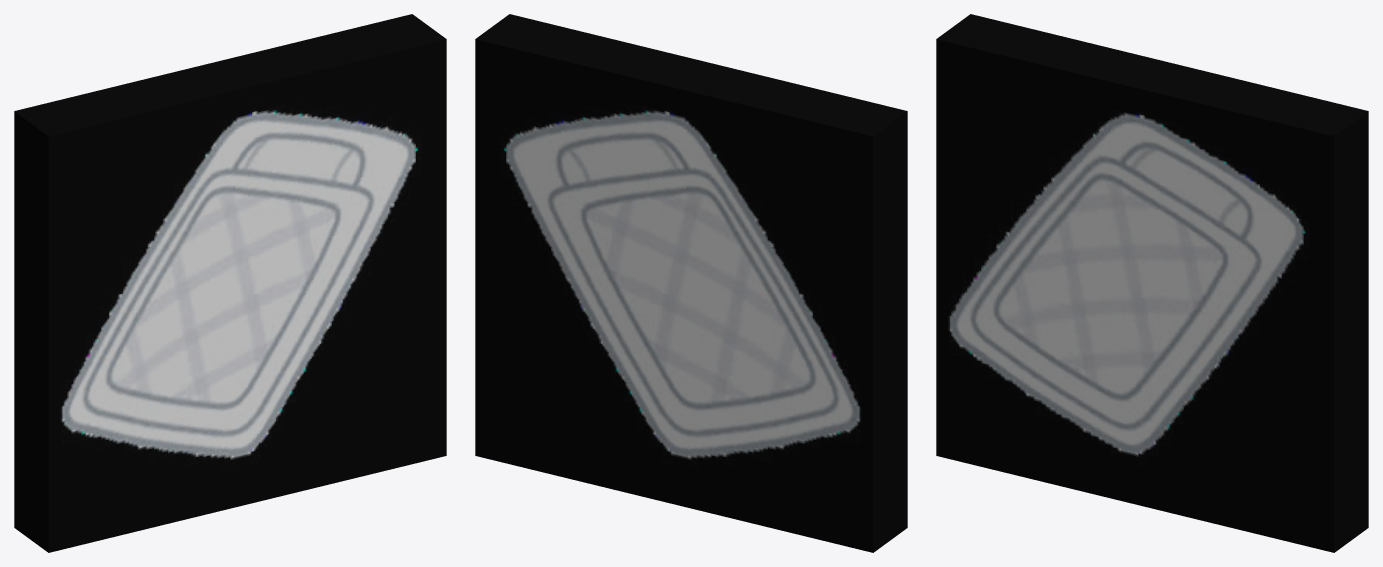
The model's file is bed.fbx.
The picture shows the model from 3 angles, left to right: view 1: azimuth 30°, elevation 25°; view 2: azimuth 150°, elevation 25°; view 3: azimuth 330°, elevation 25°; orthographic projection.
Visible parts, largest first — view 1: pPlane1; view 2: pPlane1; view 3: pPlane1.
Part boxes in pixels (box(x1,y1,x2,y2)): pPlane1: box(14, 14, 446, 552); pPlane1: box(475, 14, 907, 552); pPlane1: box(936, 14, 1368, 552).
Size of the model in its own units: 1 by 1 by 0.1499.
1 material, 1 textured.
